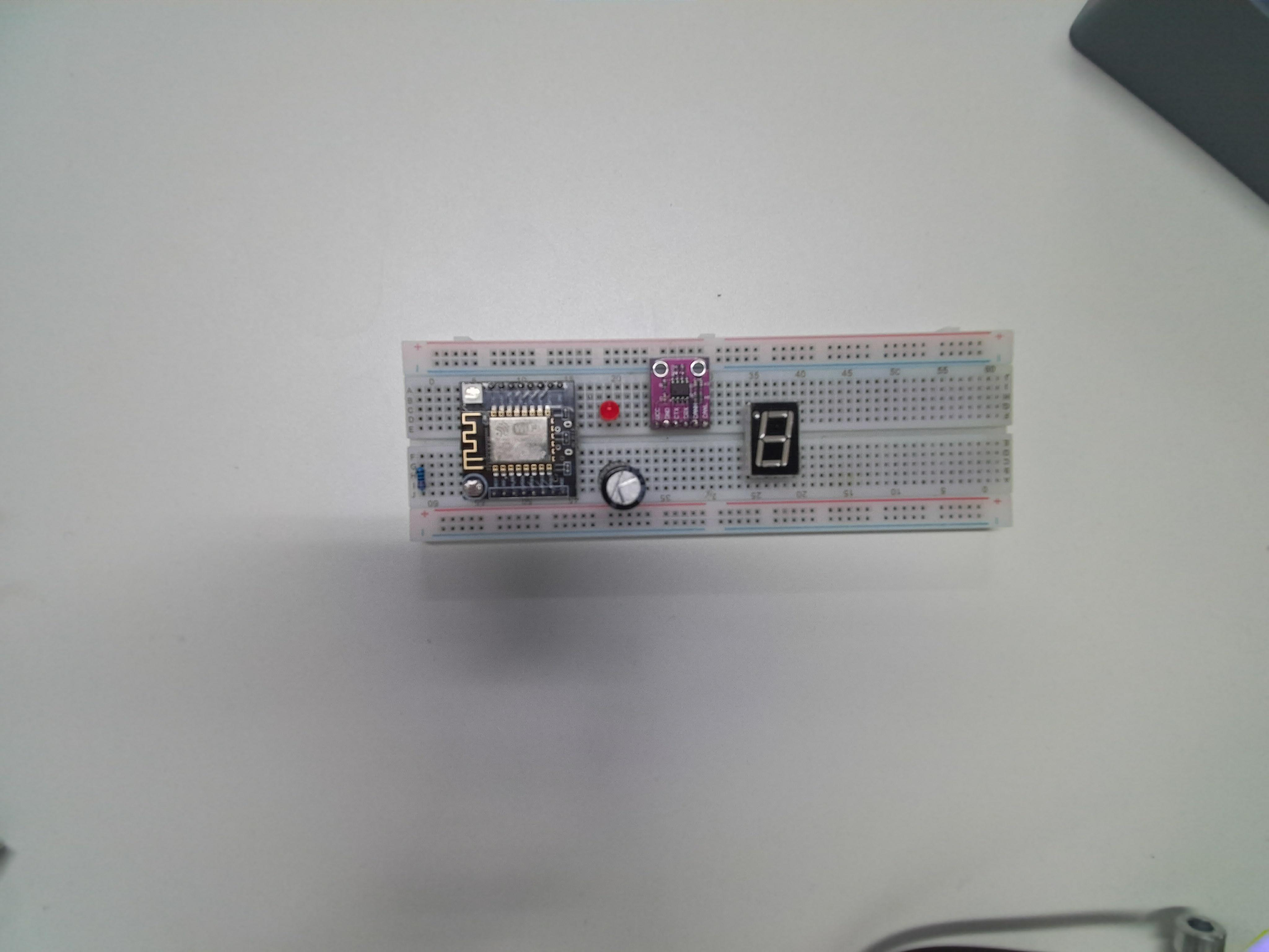base: (403, 331, 1018, 548)
capacitor: (602, 460, 646, 510)
digit-board: (747, 400, 804, 479)
esp: (457, 380, 578, 505)
purple-board: (650, 354, 712, 431)
red-led: (599, 399, 620, 426)
resistor-small: (415, 466, 428, 490)
